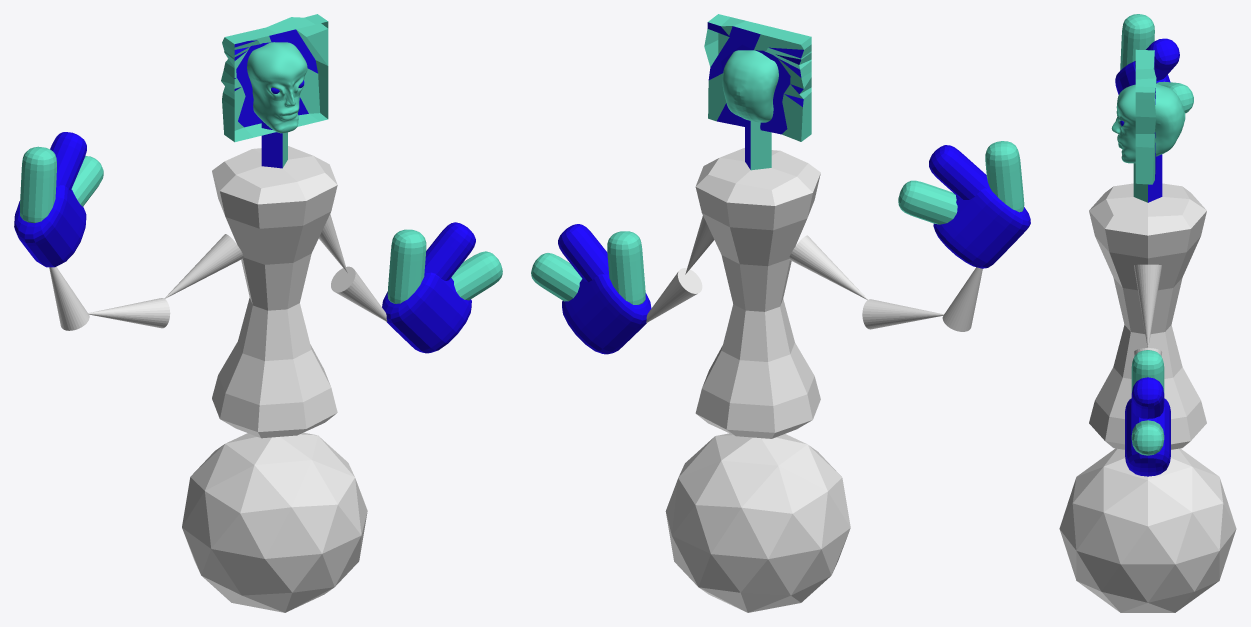
The model's file is Blue.fbx.
3 views of the same model, side by side, from view 1: azimuth 30°, elevation 25°; view 2: azimuth 150°, elevation 25°; view 3: azimuth 270°, elevation 25° (orthographic). The views are drawn at different scales.
Visible parts, largest first — view 1: Icosphere, Cube.003, Cube.002, Cube.004, Cube, Sphere, Cone, Cone.001, Cone.002, Cone.004, Cube.001; view 2: Icosphere, Cube.003, Cube.004, Cube.002, Cube, Sphere, Cone, Cone.001, Cone.002, Cone.004, Cube.001; view 3: Icosphere, Cube.003, Cube.002, Cube.004, Sphere, Cube, Cone.003, Cube.001.
Boxes of the visible parts, x1=… form: Icosphere: x1=182, y1=432, x2=367, y2=612; Cube.003: x1=212, y1=146, x2=337, y2=438; Cube.002: x1=382, y1=222, x2=502, y2=353; Cube.004: x1=14, y1=132, x2=103, y2=267; Cube: x1=221, y1=14, x2=328, y2=142; Sphere: x1=247, y1=42, x2=307, y2=133; Cone: x1=164, y1=234, x2=243, y2=298; Cone.001: x1=88, y1=298, x2=170, y2=328; Cone.002: x1=49, y1=266, x2=89, y2=330; Cone.004: x1=331, y1=266, x2=387, y2=321; Cube.001: x1=261, y1=120, x2=287, y2=168; Icosphere: x1=665, y1=433, x2=850, y2=612; Cube.003: x1=695, y1=148, x2=820, y2=438; Cube.004: x1=898, y1=141, x2=1030, y2=268; Cube.002: x1=531, y1=224, x2=651, y2=354; Cube: x1=704, y1=14, x2=811, y2=141; Sphere: x1=722, y1=50, x2=778, y2=122; Cone: x1=789, y1=235, x2=868, y2=300; Cone.001: x1=862, y1=299, x2=943, y2=329; Cone.002: x1=942, y1=267, x2=982, y2=331; Cone.004: x1=646, y1=268, x2=702, y2=322; Cube.001: x1=745, y1=120, x2=771, y2=170; Icosphere: x1=1059, y1=448, x2=1236, y2=612; Cube.003: x1=1089, y1=183, x2=1206, y2=449; Cube.002: x1=1125, y1=350, x2=1170, y2=476; Cube.004: x1=1115, y1=14, x2=1193, y2=113; Sphere: x1=1111, y1=84, x2=1185, y2=163; Cube: x1=1135, y1=49, x2=1156, y2=184; Cone.003: x1=1134, y1=264, x2=1161, y2=347; Cube.001: x1=1133, y1=154, x2=1162, y2=202.
Bounding box in the file's own units: 1322 × 1497 × 444.
